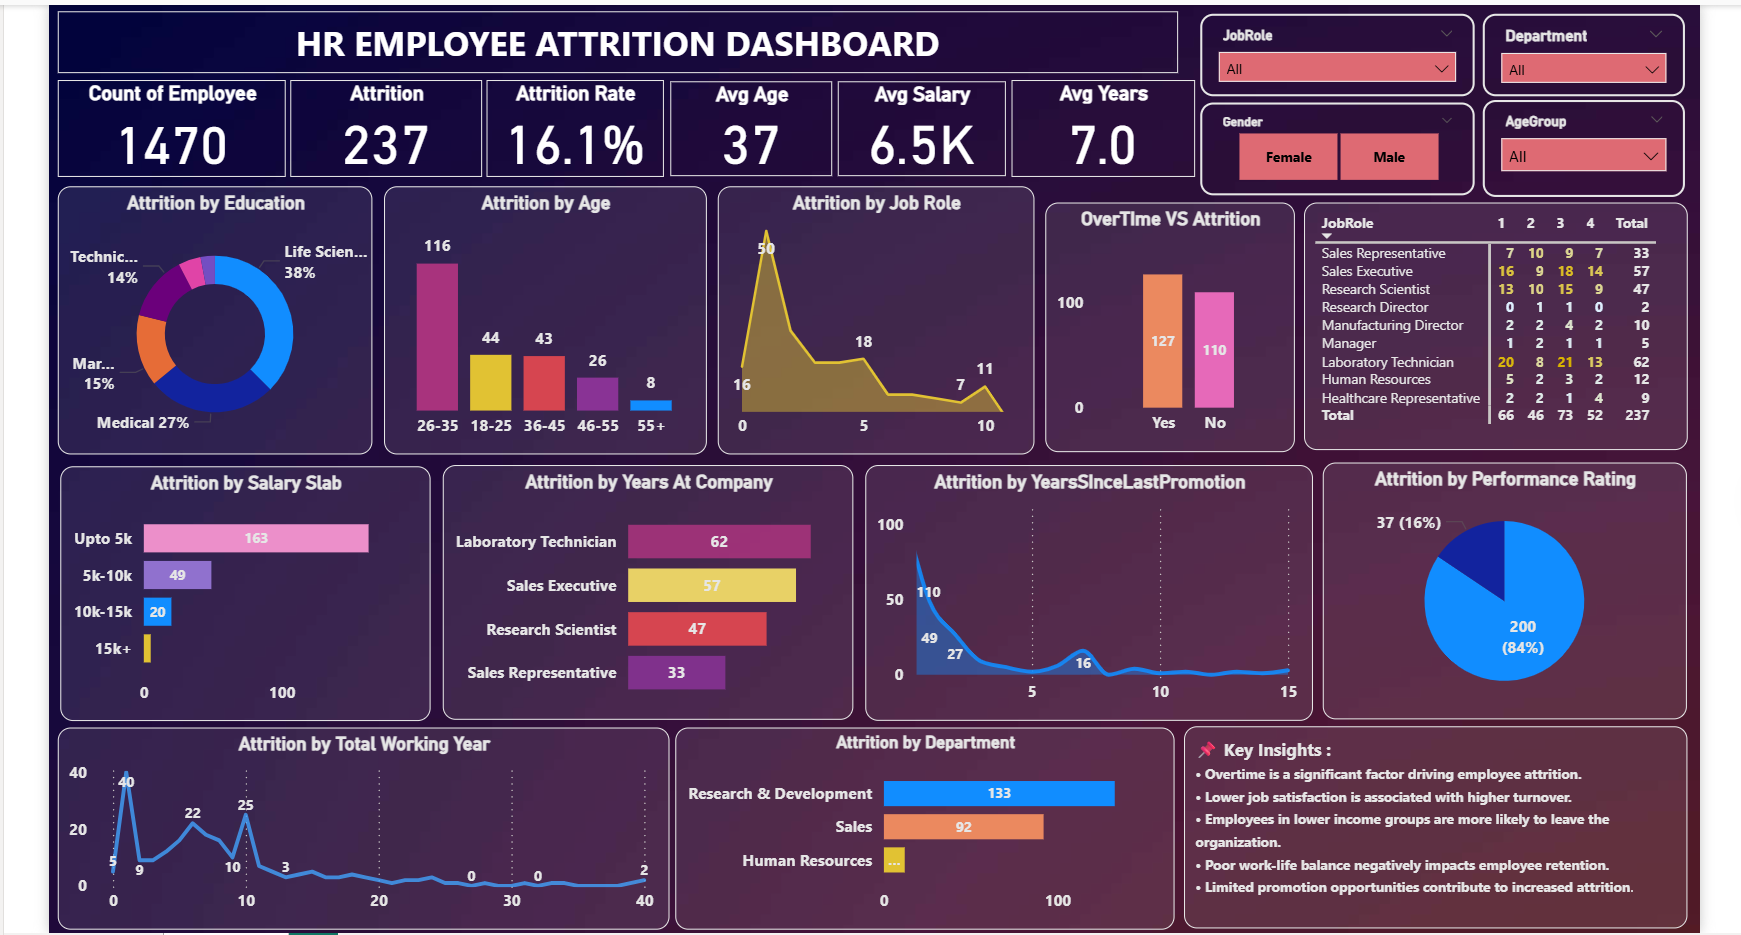

Layout of this report page (visuals, bound fields, positions):
{"tool":"powerbi","page":{"name":"Dashboard","canvas":[1280,720],"ordinal":0},"visuals":[{"type":"card","title":"Count of Employee","fields":{"Values":["CountNonNull(HR_Analytics.EmpID)"]},"box":[7,58.1,177,75.6],"z":0},{"type":"card","title":"Attrition","fields":{"Values":["Sum(HR_Analytics.AttritionCount)"]},"box":[187.2,58.1,148.8,75.6],"z":1000},{"type":"card","title":"Attrition Rate","fields":{"Values":["HR_Analytics.AttritionRate"]},"box":[339.5,58.1,137.2,75.6],"z":2000},{"type":"card","title":"Avg Age","fields":{"Values":["Avg(HR_Analytics.Age)"]},"box":[481.4,59.3,125.6,73.3],"z":3000},{"type":"card","title":"Avg Salary","fields":{"Values":["Avg(HR_Analytics.MonthlyIncome)"]},"box":[611.6,59.3,130.2,73.3],"z":4000},{"type":"card","title":"Avg Years","fields":{"Values":["Avg(HR_Analytics.YearsAtCompany)"]},"box":[746,58.1,142,75],"z":5000},{"type":"donutChart","title":"Attrition by Education","fields":{"Category":["HR_Analytics.EducationField"],"Y":["Sum(HR_Analytics.AttritionCount)"]},"box":[7.2,140.9,244.2,208.1],"z":6000},{"type":"columnChart","title":"Attrition by Age","fields":{"Category":["HR_Analytics.AgeGroup"],"Y":["Sum(HR_Analytics.AttritionCount)"]},"box":[259.5,140.9,250,208.1],"z":7000},{"type":"pivotTable","fields":{"Rows":["HR_Analytics.JobRole"],"Columns":["HR_Analytics.JobSatisfaction"],"Values":["Sum(HR_Analytics.AttritionCount)"]},"box":[972.8,152.8,297.2,192.3],"z":8000},{"type":"barChart","title":"Attrition by Salary Slab","fields":{"Category":["HR_Analytics.SalarySlab"],"Y":["Sum(HR_Analytics.AttritionCount)"]},"box":[9.1,357.4,287.2,197.7],"z":9000},{"type":"barChart","title":"Attrition by Years At Company","fields":{"Y":["Sum(HR_Analytics.AttritionCount)"],"Category":["HR_Analytics.JobRole"]},"box":[305.8,357,318.6,197.7],"z":10000},{"type":"areaChart","title":"Attrition by Job Role","fields":{"Category":["HR_Analytics.YearsAtCompany"],"Y":["Sum(HR_Analytics.AttritionCount)"]},"box":[518.4,140.9,245.3,208.1],"z":11000},{"type":"slicer","fields":{"Values":["HR_Analytics.Department"]},"box":[1111.6,7,157,64],"z":12000},{"type":"stackedAreaChart","title":"Attrition by YearsSInceLastPromotion","fields":{"Category":["HR_Analytics.YearsSinceLastPromotion"],"Y":["Sum(HR_Analytics.AttritionCount)"]},"box":[633,357,347,198],"z":13000},{"type":"clusteredColumnChart","title":"OverTIme VS Attrition","fields":{"Category":["HR_Analytics.OverTime"],"Y":["Sum(HR_Analytics.AttritionCount)"]},"box":[772.2,152.8,193.3,193.3],"z":14000},{"type":"pieChart","title":"Attrition by Performance Rating","fields":{"Category":["HR_Analytics.PerformanceRating"],"Y":["Sum(HR_Analytics.AttritionCount)"]},"box":[988,355,282,199],"z":15000},{"type":"lineChart","title":"Attrition by Total Working Year","fields":{"Category":["HR_Analytics.TotalWorkingYears"],"Y":["Sum(HR_Analytics.AttritionCount)"]},"box":[7,560,474,157],"z":16000},{"type":"barChart","title":"Attrition by Department","fields":{"Category":["HR_Analytics.Department"],"Y":["Sum(HR_Analytics.AttritionCount)"]},"box":[486,560.5,387,157],"z":17000},{"type":"slicer","fields":{"Values":["HR_Analytics.AgeGroup"]},"box":[1111.6,73.3,157,75],"z":18000},{"type":"slicer","fields":{"Values":["HR_Analytics.JobRole"]},"box":[893,7,213,64],"z":19000},{"type":"slicer","fields":{"Values":["HR_Analytics.Gender"]},"box":[892.7,75.9,213,72],"z":20000},{"type":"textbox","box":[880.2,559,390.7,157],"z":21000},{"type":"textbox","box":[7,5,869,48],"z":22000}]}

Visuals, with their boxes on the page's 1280x720 design canvas (x1, y1, x2, y2). These are canvas units, not pixel positions in the 1741x935 screenshot, which may show the page scaled, cropped or inside an application window:
"Count of Employee" card: bbox(7, 58, 184, 134)
"Attrition" card: bbox(187, 58, 336, 134)
"Attrition Rate" card: bbox(340, 58, 477, 134)
"Avg Age" card: bbox(481, 59, 607, 133)
"Avg Salary" card: bbox(612, 59, 742, 133)
"Avg Years" card: bbox(746, 58, 888, 133)
"Attrition by Education" donutChart: bbox(7, 141, 251, 349)
"Attrition by Age" columnChart: bbox(260, 141, 510, 349)
pivotTable - HR_Analytics.JobRole x HR_Analytics.JobSatisfaction: bbox(973, 153, 1270, 345)
"Attrition by Salary Slab" barChart: bbox(9, 357, 296, 555)
"Attrition by Years At Company" barChart: bbox(306, 357, 624, 555)
"Attrition by Job Role" areaChart: bbox(518, 141, 764, 349)
slicer - HR_Analytics.Department: bbox(1112, 7, 1269, 71)
"Attrition by YearsSInceLastPromotion" stackedAreaChart: bbox(633, 357, 980, 555)
"OverTIme VS Attrition" clusteredColumnChart: bbox(772, 153, 966, 346)
"Attrition by Performance Rating" pieChart: bbox(988, 355, 1270, 554)
"Attrition by Total Working Year" lineChart: bbox(7, 560, 481, 717)
"Attrition by Department" barChart: bbox(486, 560, 873, 718)
slicer - HR_Analytics.AgeGroup: bbox(1112, 73, 1269, 148)
slicer - HR_Analytics.JobRole: bbox(893, 7, 1106, 71)
slicer - HR_Analytics.Gender: bbox(893, 76, 1106, 148)
textbox: bbox(880, 559, 1271, 716)
textbox: bbox(7, 5, 876, 53)
